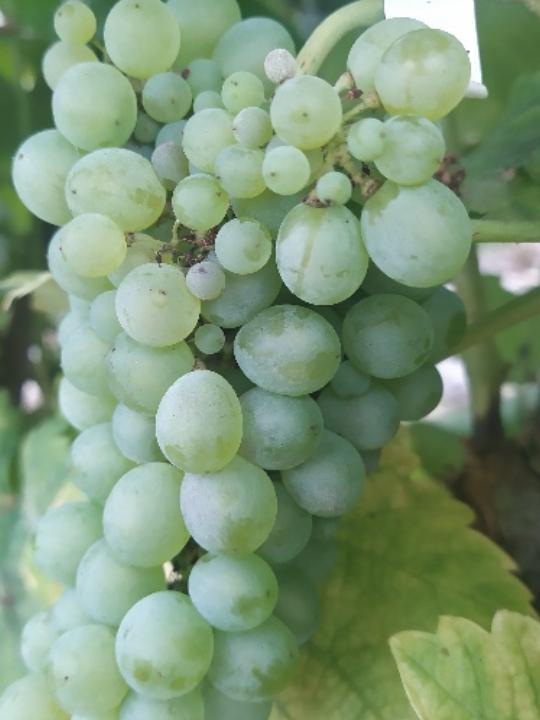grape: (0, 0, 477, 720)
